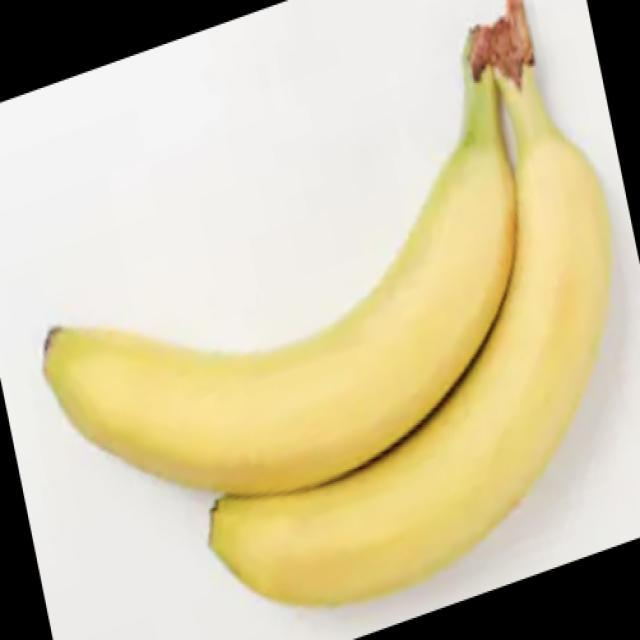Banana: (46, 31, 616, 613)
